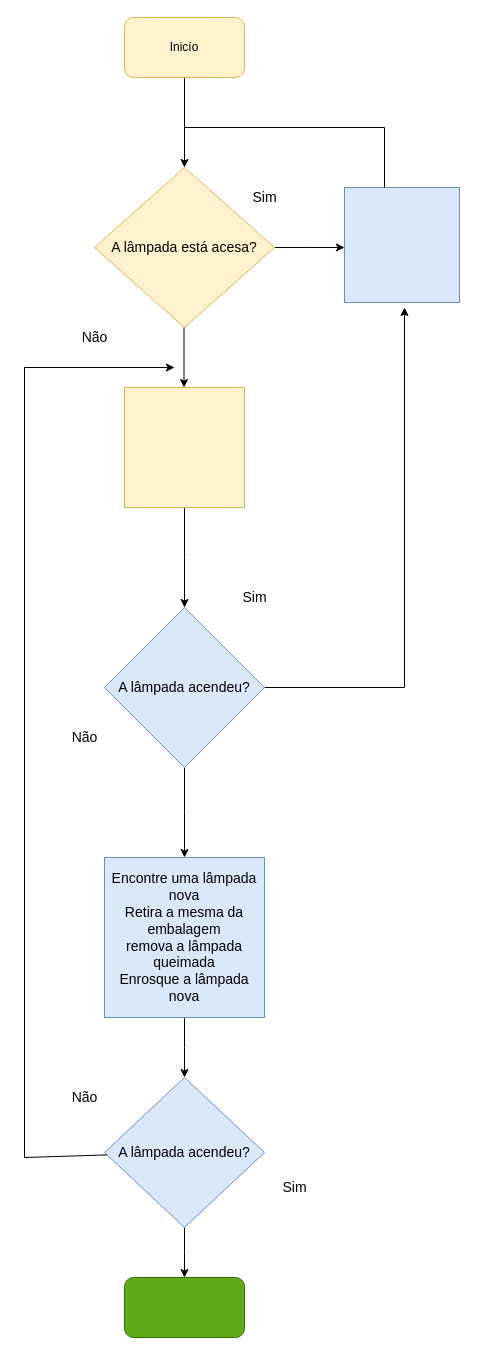
Image size: 477x1355. Some labels were removed from this diagram. Here are the shapes that lost their labels. From the top down, the centre of each, then its label:
At pixel 402 244: "Vá para outro cômodo".
At pixel 184 447: "Aperte o interruptor".
At pixel 184 1307: "Fim".
